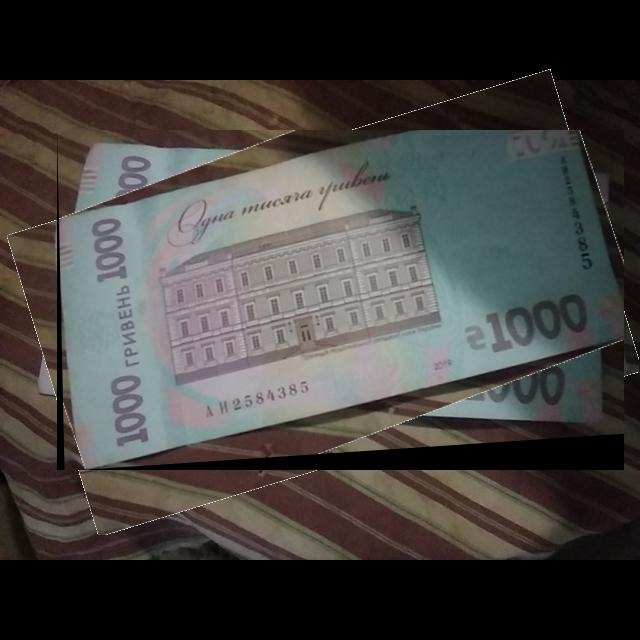1000uah: (60, 130, 625, 470)
